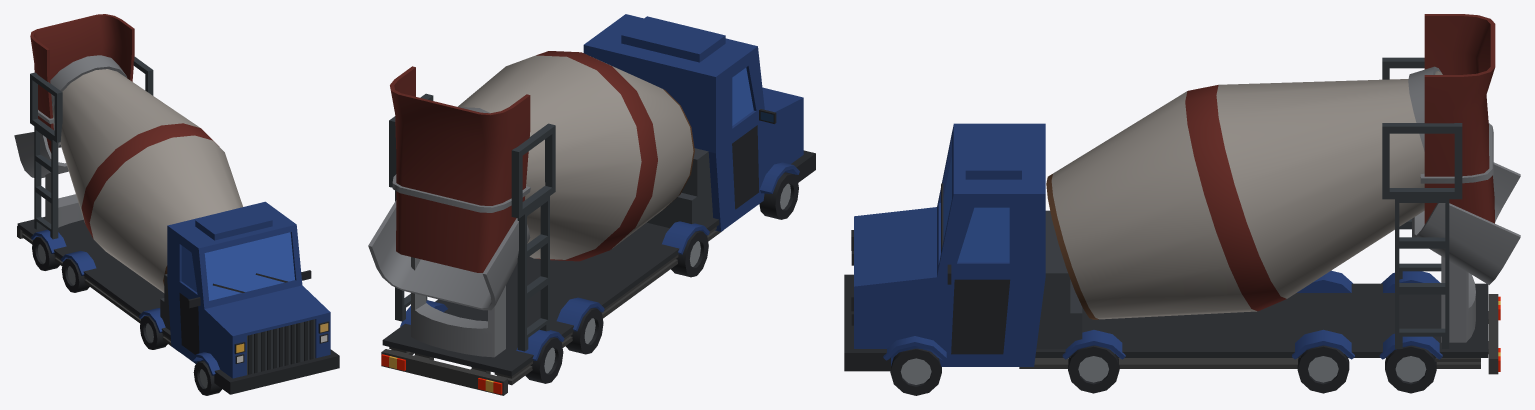
File: CementTruck_2.fbx
3 renders of one model, left to right at view 1: azimuth 30°, elevation 25°; view 2: azimuth 150°, elevation 25°; view 3: azimuth 270°, elevation 25°, orthographic. The views are drawn at different scales.
Visible parts, largest first — view 1: CementTruck_2; view 2: CementTruck_2; view 3: CementTruck_2.
Boxes of the visible parts, left/top/right/bottom form: CementTruck_2: left=14, top=14, right=339, bottom=395; CementTruck_2: left=368, top=14, right=815, bottom=395; CementTruck_2: left=844, top=14, right=1520, bottom=395.
Bounding box in the file's own units: 189 × 287 × 561.
